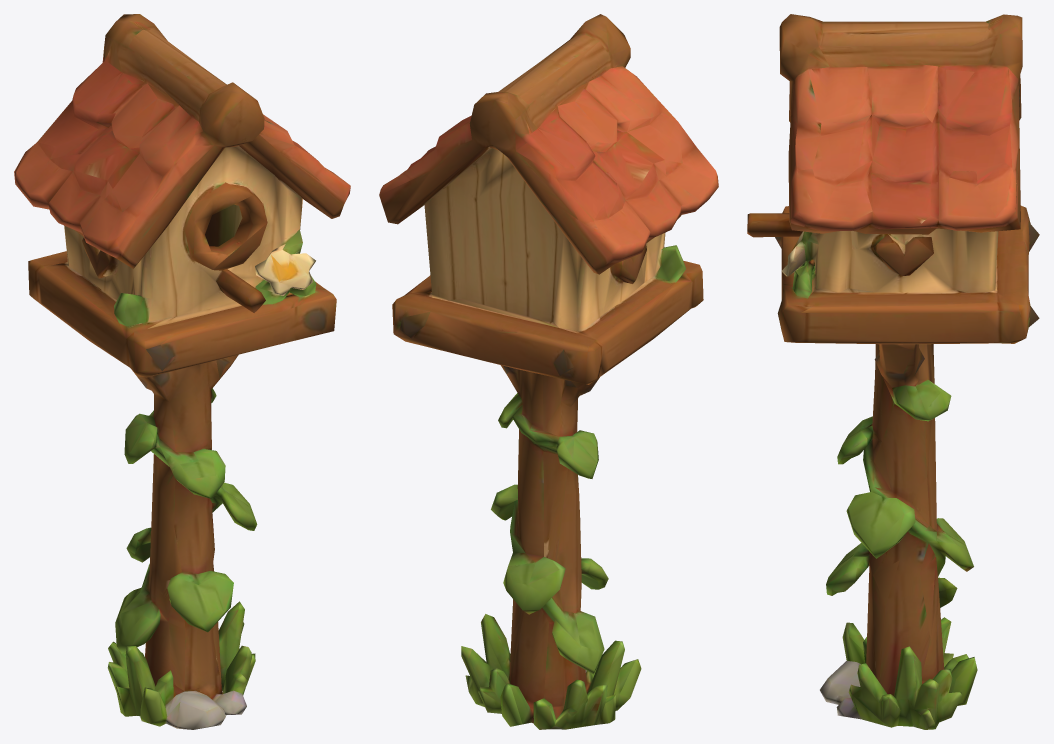
The picture shows the model from 3 angles, left to right: view 1: azimuth 30°, elevation 25°; view 2: azimuth 150°, elevation 25°; view 3: azimuth 270°, elevation 25°; orthographic projection. The views are drawn at different scales.
Parts seen in each view (by area): view 1: bird-house; view 2: bird-house; view 3: bird-house.
Boxes of the visible parts, x1=… form: bird-house: x1=14, y1=14, x2=350, y2=729; bird-house: x1=379, y1=14, x2=718, y2=729; bird-house: x1=747, y1=14, x2=1039, y2=729.
Size of the model in its own units: 0.9711 by 2.4 by 0.9275.
Materials: 1 (1 with a texture image).
